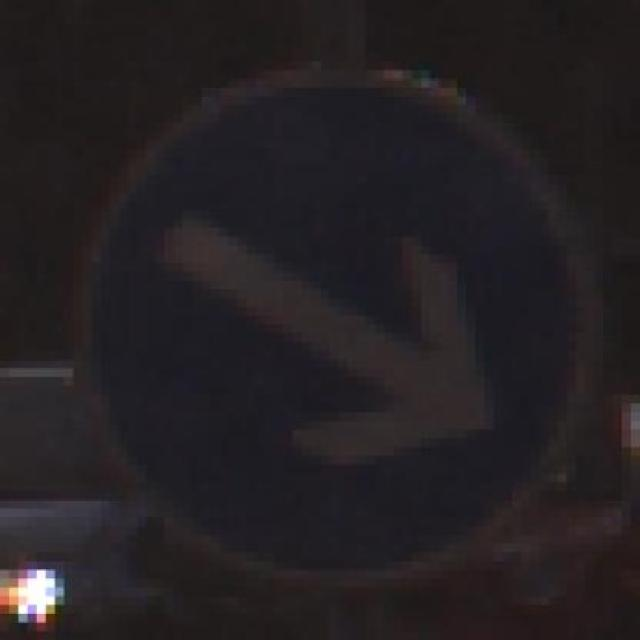Keep-Right: (55, 43, 603, 588)
